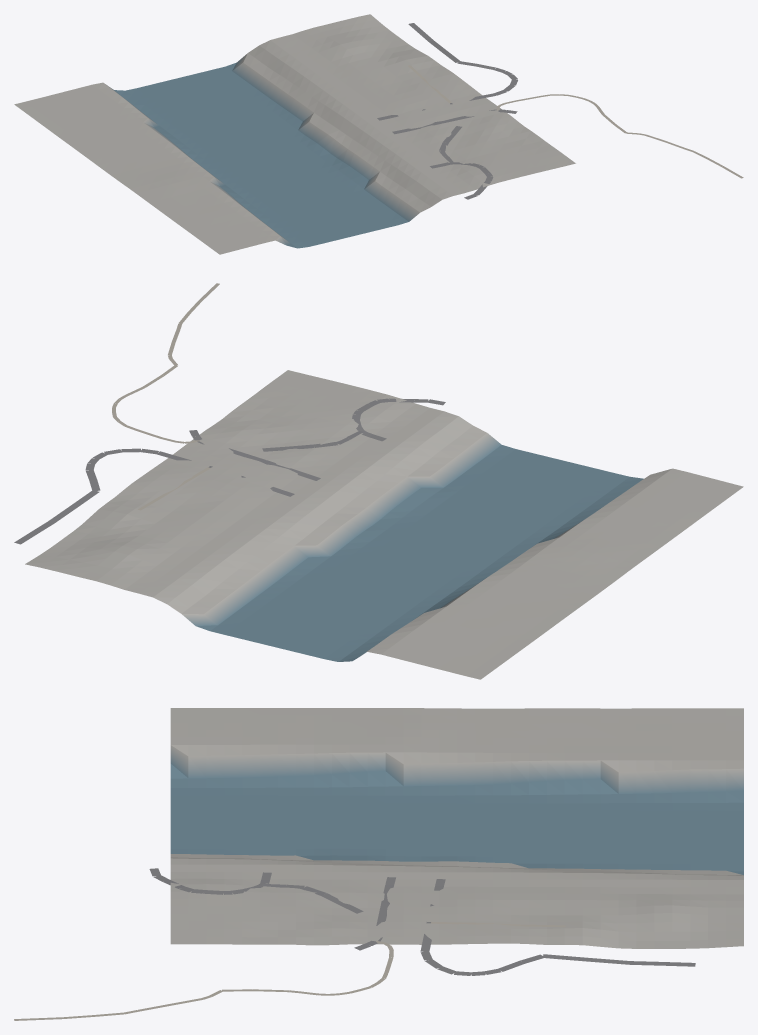
File: tile_2_2.glb
The picture shows the model from 3 angles, top to bottom: view 1: azimuth 30°, elevation 25°; view 2: azimuth 150°, elevation 25°; view 3: azimuth 270°, elevation 25°; orthographic projection. The views are drawn at different scales.
Parts seen in each view (by area): view 1: terrain, roads; view 2: terrain, roads; view 3: terrain, roads.
Boxes of the visible parts, left/top/right/bottom form: terrain: left=14, top=14, right=575, bottom=254; roads: left=377, top=23, right=743, bottom=199; terrain: left=25, top=370, right=743, bottom=679; roads: left=14, top=283, right=445, bottom=544; terrain: left=170, top=708, right=743, bottom=948; roads: left=14, top=868, right=695, bottom=1020.
Size of the model in its own units: 336 by 13.15 by 326.
